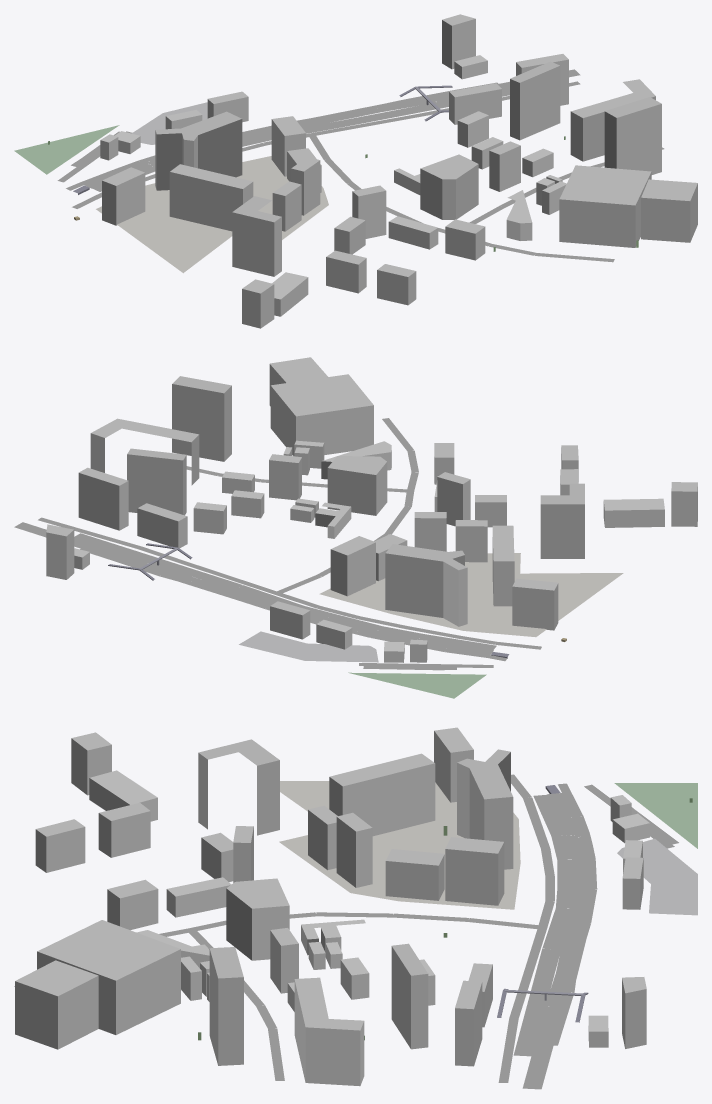
The picture shows the model from 3 angles, top to bottom: view 1: azimuth 30°, elevation 25°; view 2: azimuth 150°, elevation 25°; view 3: azimuth 270°, elevation 25°; orthographic projection. The views are drawn at different scales.
Bounding box in the file's own units: 568 × 76.52 × 501.
